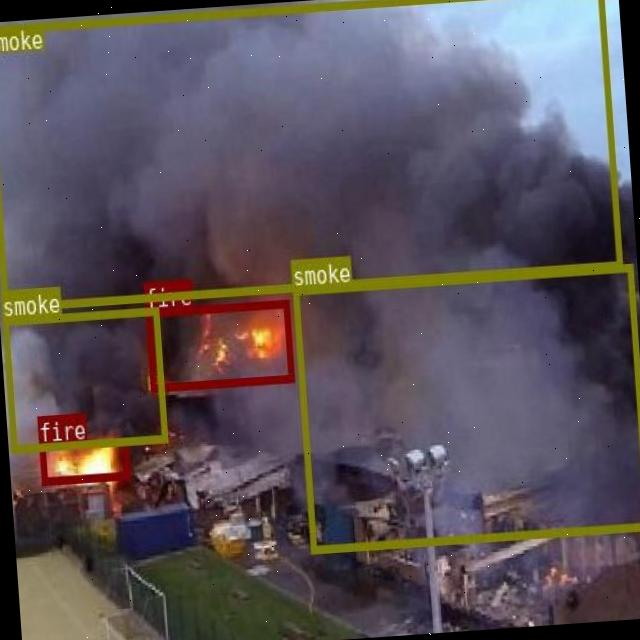fire: (145, 298, 293, 390), (38, 436, 128, 484)
smoke: (0, 0, 621, 309), (291, 262, 640, 552), (1, 305, 166, 451)
